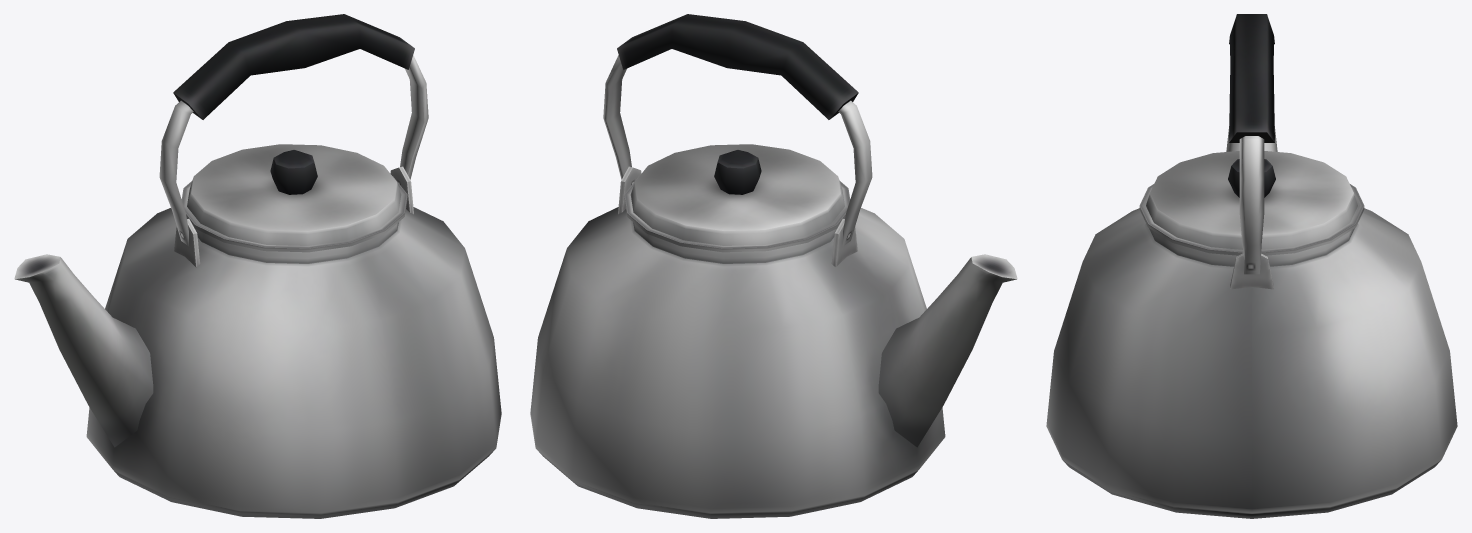
File: KR_Kettle_01_01.fbx
3 views of the same model, side by side, from view 1: azimuth 30°, elevation 25°; view 2: azimuth 150°, elevation 25°; view 3: azimuth 270°, elevation 25° (orthographic).
Visible parts, largest first — view 1: kettle01, lid01, handle01; view 2: kettle01, lid01, handle01; view 3: kettle01, lid01, handle01.
Part boxes in pixels (x1,y1,x2,y2): kettle01: (14,166,501,518); lid01: (181,144,407,252); handle01: (159,14,428,246); kettle01: (530,166,1017,518); lid01: (624,144,850,252); handle01: (603,14,872,246); kettle01: (1046,126,1457,518); lid01: (1139,151,1364,255); handle01: (1229,14,1274,274).
Size of the model in its own units: 25.31 by 21.39 by 19.9.
